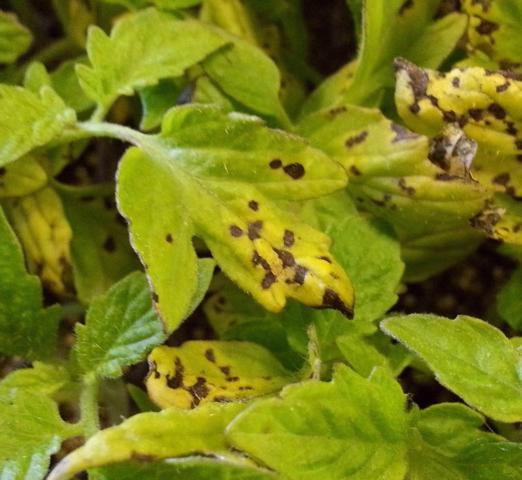Tomato leaf: (96, 101, 358, 329), (55, 17, 241, 102), (126, 333, 317, 414)
